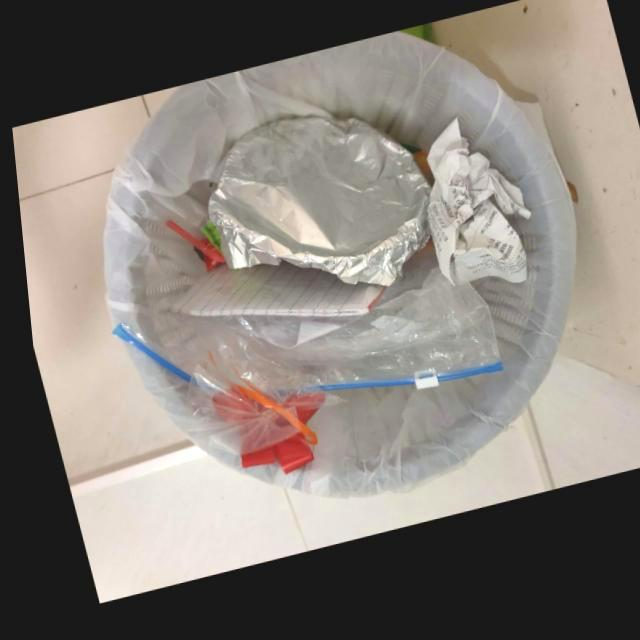aluminum: (203, 122, 426, 294)
paper: (422, 127, 526, 295), (167, 267, 380, 323)
plastic_bag: (104, 289, 495, 397)
